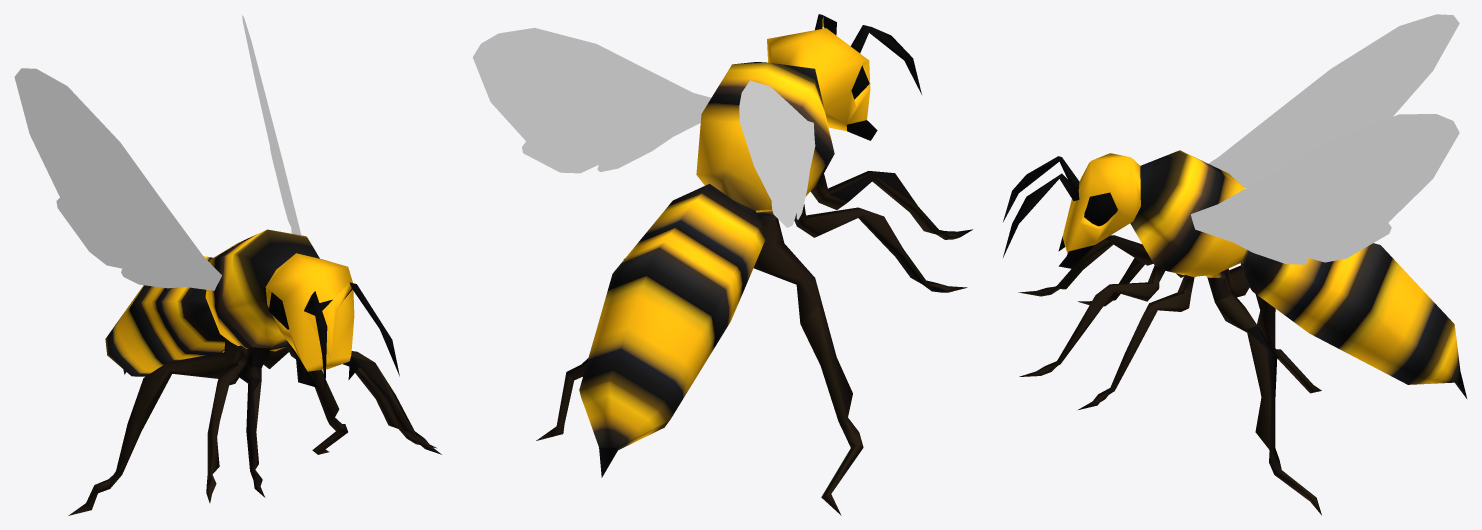
Rendered from 5e7bde7e-fff2-45e3-8d12-180dce2aa85a.glb.
The picture shows the model from 3 angles, left to right: view 1: azimuth 30°, elevation 25°; view 2: azimuth 150°, elevation 25°; view 3: azimuth 270°, elevation 25°; orthographic projection. The views are drawn at different scales.
Visible parts, largest first — view 1: Bee; view 2: Bee; view 3: Bee.
Boxes of the visible parts, left/top/right/bottom form: Bee: left=14, top=15, right=441, bottom=515; Bee: left=472, top=14, right=972, bottom=515; Bee: left=1003, top=14, right=1466, bottom=515.
Size of the model in its own units: 0.1323 by 0.1921 by 0.2077.
Materials: 1 (1 with a texture image).
